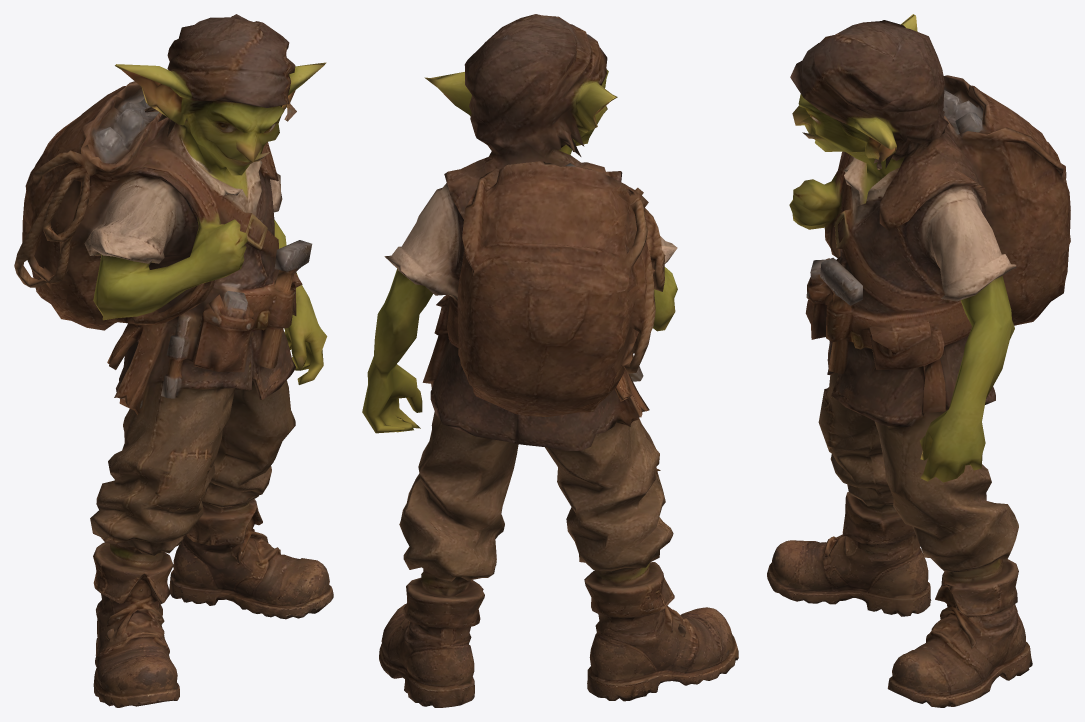
Rendered from worker.glb.
3 views of the same model, side by side, from view 1: azimuth 30°, elevation 25°; view 2: azimuth 150°, elevation 25°; view 3: azimuth 270°, elevation 25° (orthographic).
Parts seen in each view (by area): view 1: tripo_node_fd161203-86b9-449f-9a5d-5833e24f9305; view 2: tripo_node_fd161203-86b9-449f-9a5d-5833e24f9305; view 3: tripo_node_fd161203-86b9-449f-9a5d-5833e24f9305.
Boxes of the visible parts, left/top/right/bottom form: tripo_node_fd161203-86b9-449f-9a5d-5833e24f9305: left=14, top=14, right=333, bottom=707; tripo_node_fd161203-86b9-449f-9a5d-5833e24f9305: left=362, top=14, right=738, bottom=707; tripo_node_fd161203-86b9-449f-9a5d-5833e24f9305: left=767, top=14, right=1070, bottom=707.
Bounding box in the file's own units: 0.4858 × 0.9996 × 0.4429.
1 material, 1 textured.
